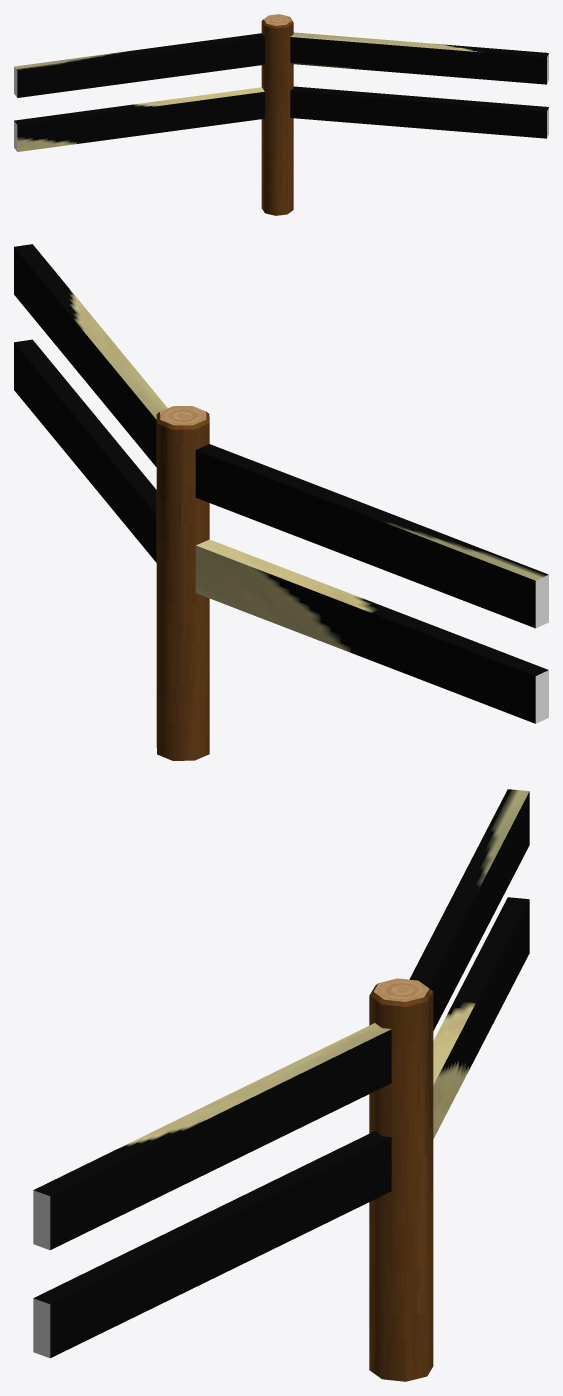
The model's file is Path_Fence_45_Degrees_Curve_Inner_3x3.fbx.
3 renders of one model, top to bottom at view 1: azimuth 30°, elevation 25°; view 2: azimuth 150°, elevation 25°; view 3: azimuth 270°, elevation 25°, orthographic. The views are drawn at different scales.
Visible parts, largest first — view 1: Path_Fence_45_Degrees_Curve_Inner_3x3; view 2: Path_Fence_45_Degrees_Curve_Inner_3x3; view 3: Path_Fence_45_Degrees_Curve_Inner_3x3.
Part boxes in pixels (left/top/right/bottom): Path_Fence_45_Degrees_Curve_Inner_3x3: left=14, top=14, right=548, bottom=215; Path_Fence_45_Degrees_Curve_Inner_3x3: left=14, top=244, right=548, bottom=760; Path_Fence_45_Degrees_Curve_Inner_3x3: left=33, top=789, right=529, bottom=1381.
Bounding box in the file's own units: 202 × 87.5 × 104.
